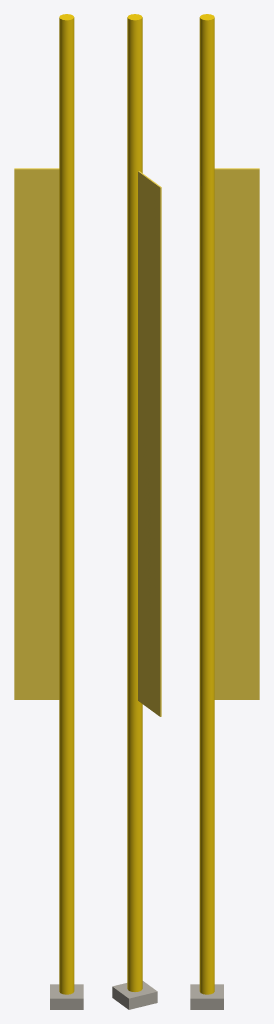
Rendered from foul_pole.glb.
3 views of the same model, side by side, from view 1: azimuth 90°, elevation 25°; view 2: azimuth 210°, elevation 25°; view 3: azimuth 270°, elevation 25° (orthographic).
Visible parts, largest first — view 1: bb_foul_pole; view 2: bb_foul_pole; view 3: bb_foul_pole.
Boxes of the visible parts, x1,y1,x2,y2 form: bb_foul_pole: [14, 14, 83, 1009]; bb_foul_pole: [112, 14, 161, 1009]; bb_foul_pole: [190, 14, 259, 1009].
Size of the model in its own units: 0.8 by 26 by 1.65.
